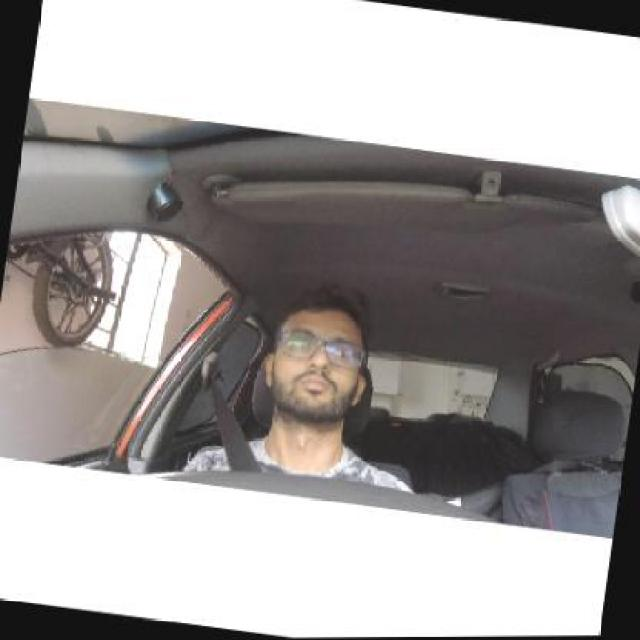person: (258, 280, 374, 449)
